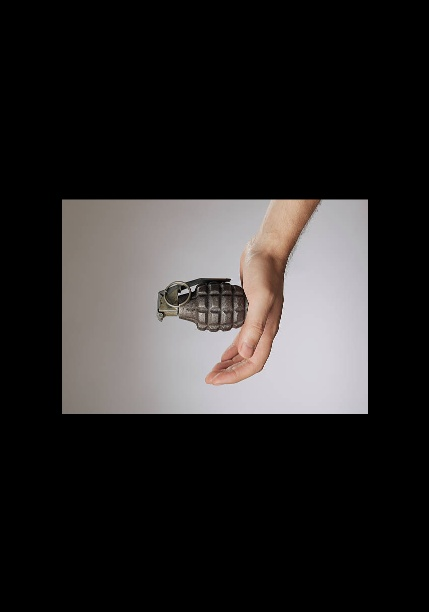e1: (155, 274, 248, 334)
